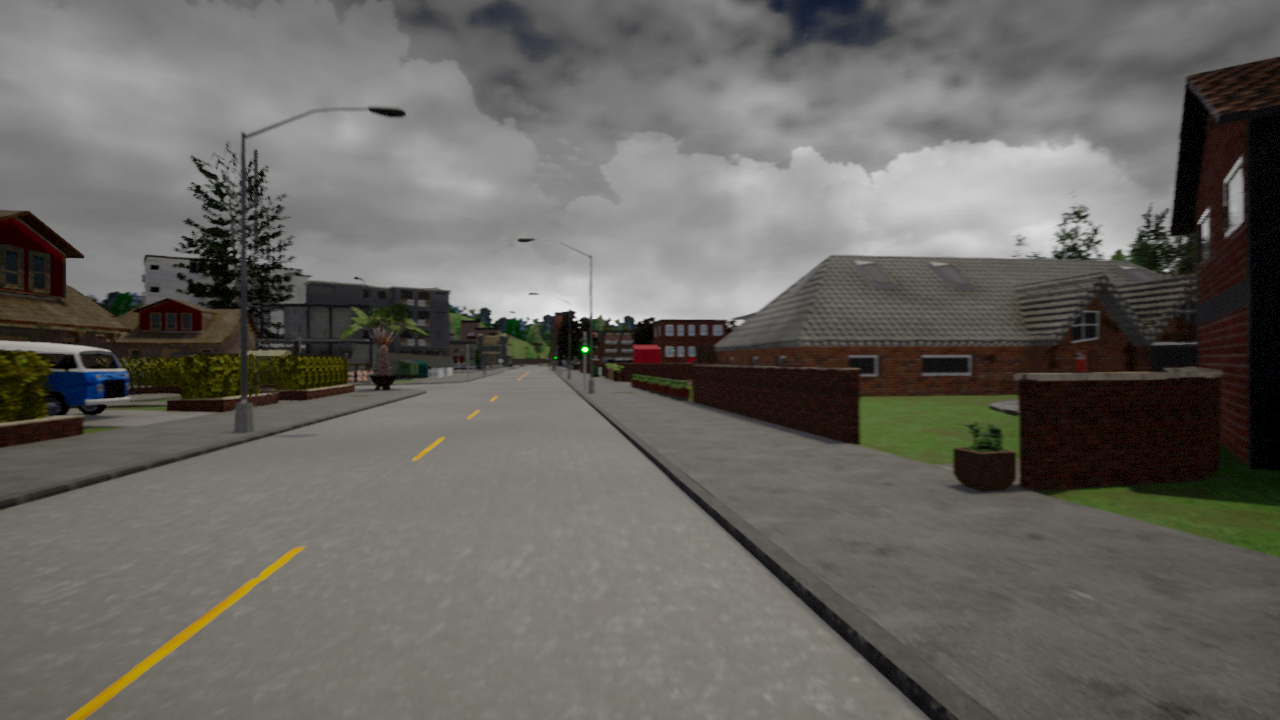green: (581, 334, 589, 354)
